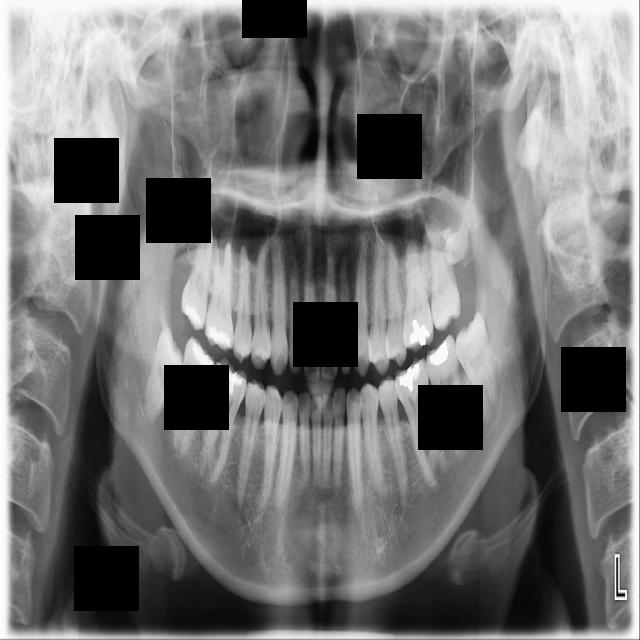52: (207, 356, 246, 395), (203, 321, 236, 352), (188, 339, 217, 374), (396, 358, 424, 393), (426, 339, 456, 369), (408, 319, 432, 348), (182, 303, 205, 331), (295, 345, 299, 358)
73: (508, 536, 511, 544)
BioHorizons Implant: (425, 218, 462, 331)
BioLife Implant: (442, 230, 471, 267)
Biomet 3i Implant: (450, 311, 501, 426)
Blue Sky Bio Implant: (422, 331, 472, 454)
Caries: (178, 214, 217, 331)
Implant: (169, 336, 219, 462)
Keystone Dental Implant: (138, 326, 194, 426)
